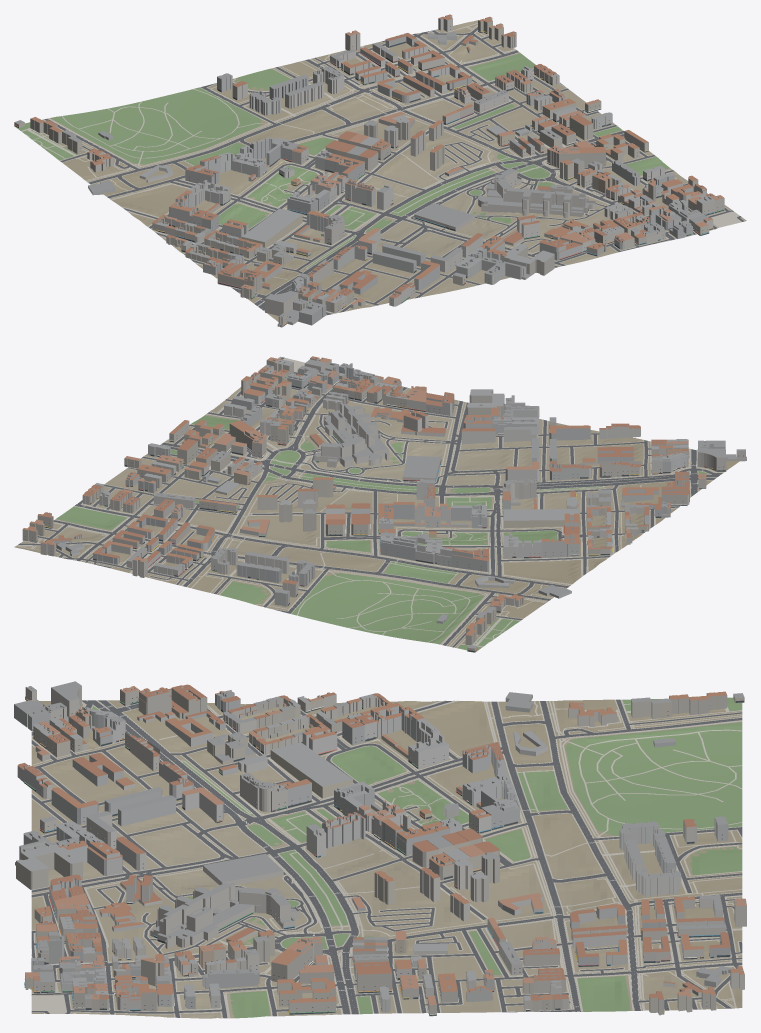
3 renders of one model, top to bottom at view 1: azimuth 30°, elevation 25°; view 2: azimuth 150°, elevation 25°; view 3: azimuth 270°, elevation 25°, orthographic. The views are drawn at different scales.
Visible parts, largest first — view 1: Walls, Ground, Roofs, Sidewalk, Park, Road, Detail; view 2: Walls, Ground, Roofs, Sidewalk, Road, Park, Detail; view 3: Walls, Ground, Roofs, Sidewalk, Road, Park, Detail.
Part boxes in pixels (box(x1,y1,x2,y2)): Walls: box(14, 16, 724, 327); Ground: box(14, 20, 746, 323); Roofs: box(14, 14, 723, 324); Sidewalk: box(21, 23, 744, 315); Park: box(15, 53, 669, 268); Road: box(44, 27, 744, 314); Detail: box(14, 26, 724, 326); Walls: box(22, 357, 746, 652); Ground: box(14, 356, 739, 652); Roofs: box(23, 356, 746, 648); Sidewalk: box(16, 357, 724, 647); Road: box(18, 357, 722, 647); Park: box(56, 415, 708, 651); Detail: box(25, 372, 743, 652); Walls: box(14, 686, 746, 1016); Ground: box(31, 699, 742, 1018); Roofs: box(14, 681, 746, 1005); Sidewalk: box(31, 698, 742, 1017); Road: box(31, 699, 742, 1018); Park: box(92, 697, 742, 1018); Detail: box(24, 694, 743, 1015).
Bounding box in the file's own units: 1034 × 56.78 × 1031.
